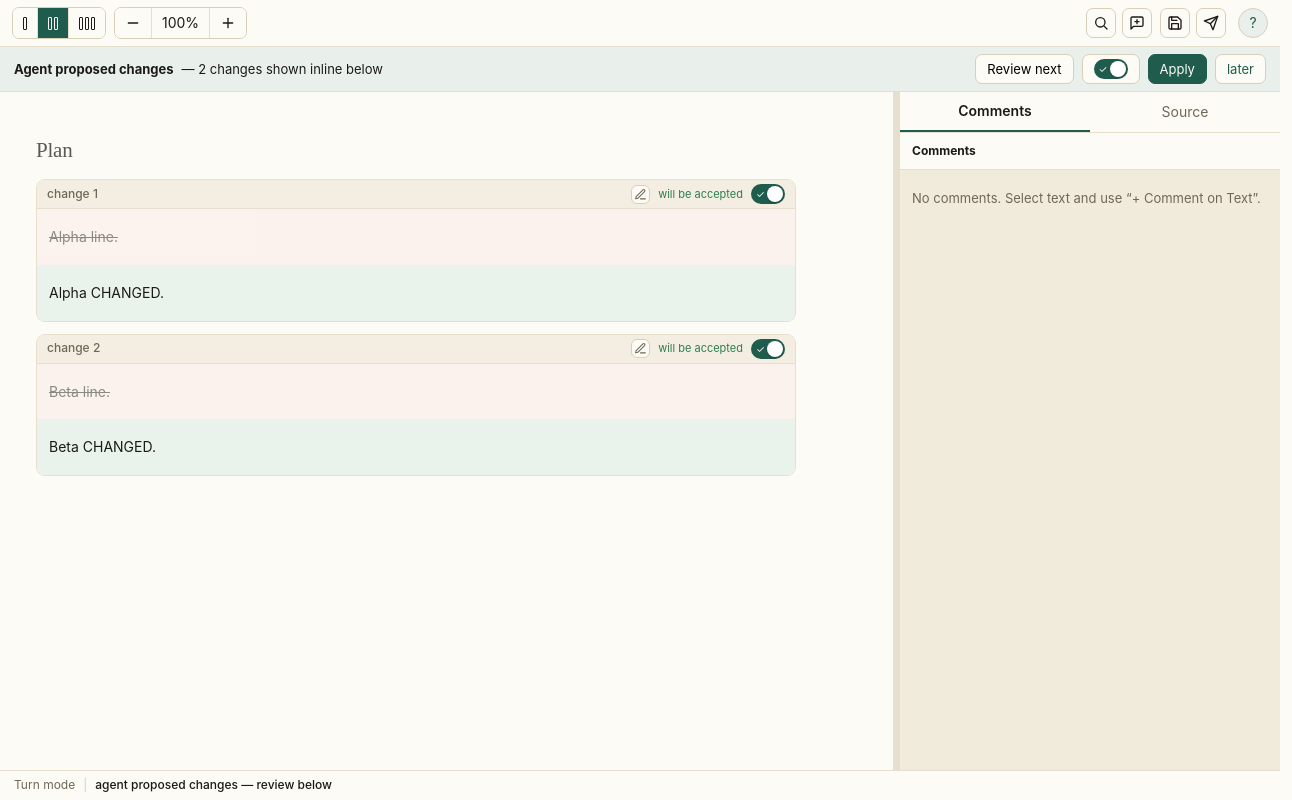
Test: App deep review flow (memory-backed) › "Reject all" then Apply discards the proposal without changing the body
The image size is (1292, 800).
Click the checkbox named "accept or reject all changes". click: (1110, 69)
box: top-left (1082, 54), bottom-right (1140, 84)
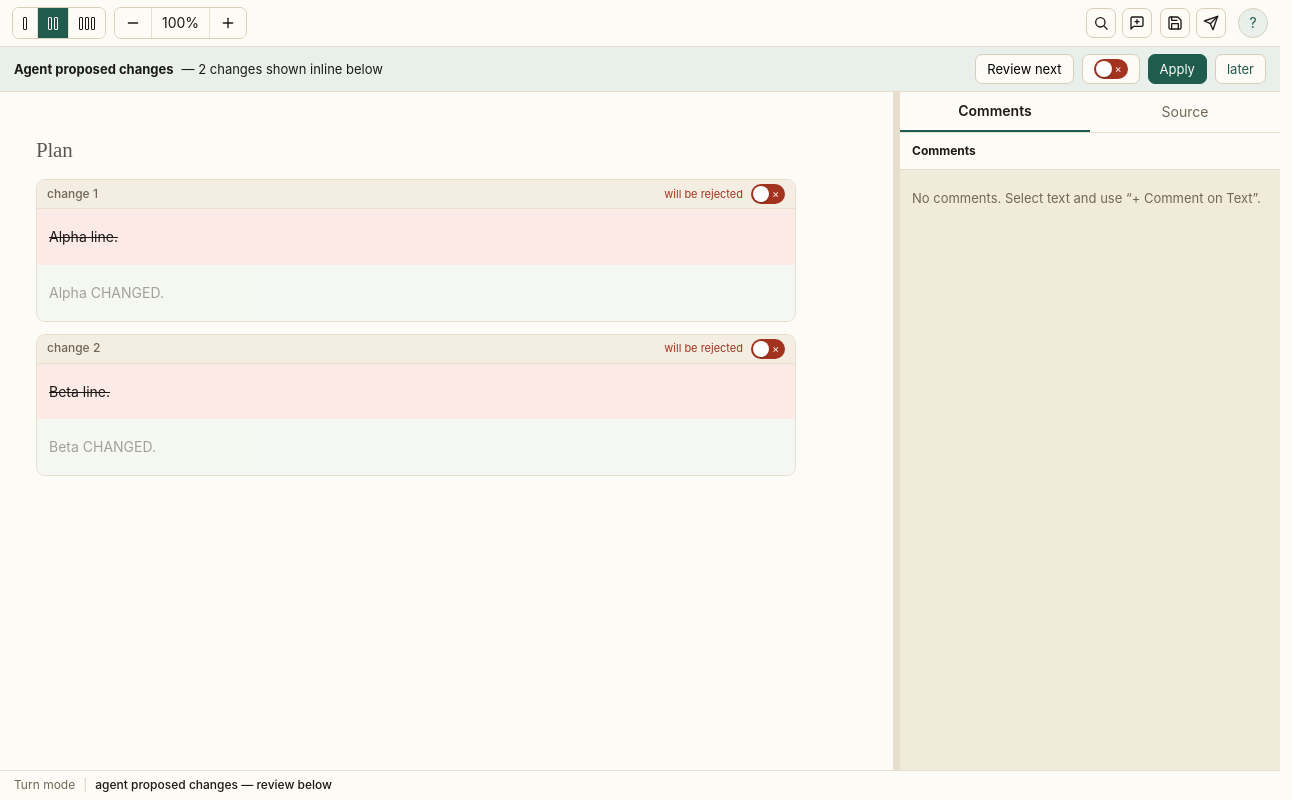
// Don't Apply until the reject-all observably committed — Apply reads the toggle state.
Click the button "Apply". click: (1177, 69)
box: top-left (1148, 54), bottom-right (1207, 84)
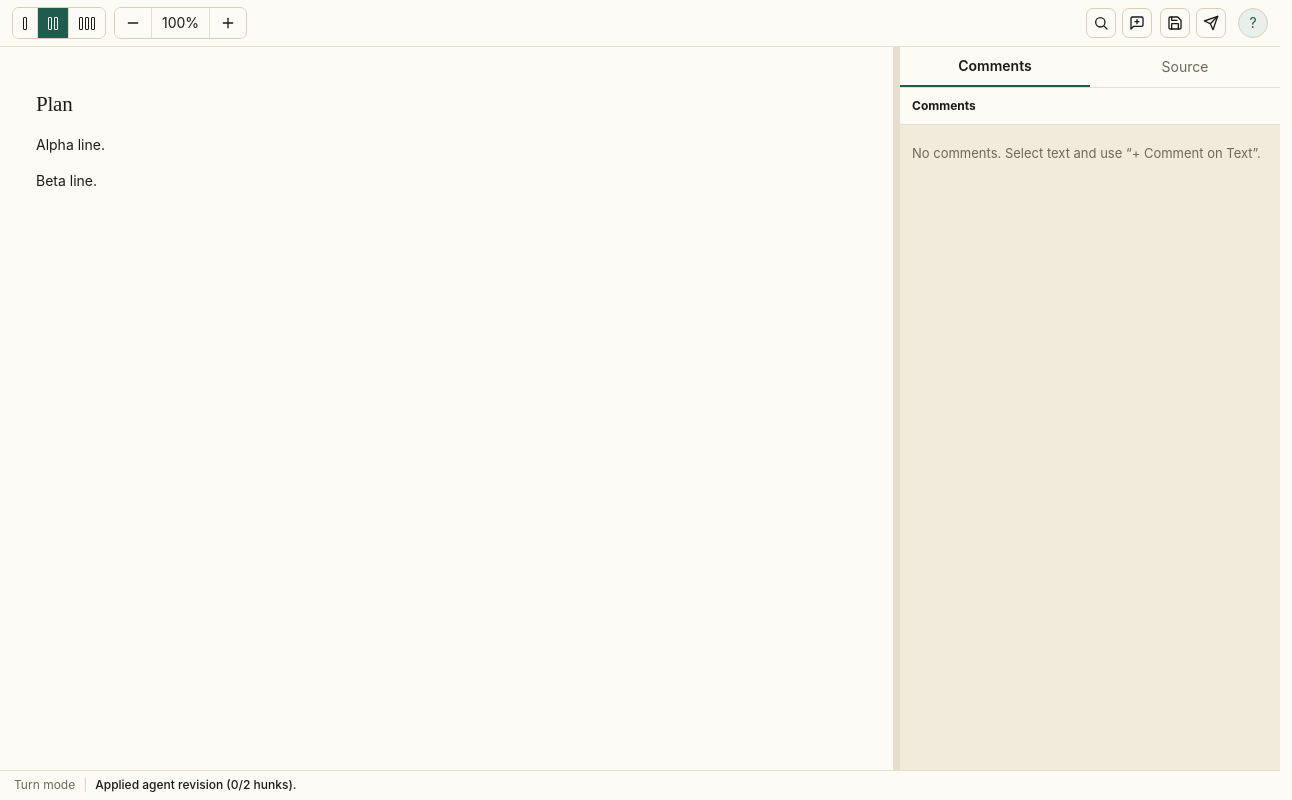
Expected: the text "Alpha line." is shown, top-left (36, 136), bottom-right (105, 153)
Result: the text "Agent proposed changes" is gone
Result: the text "Alpha CHANGED." is gone
